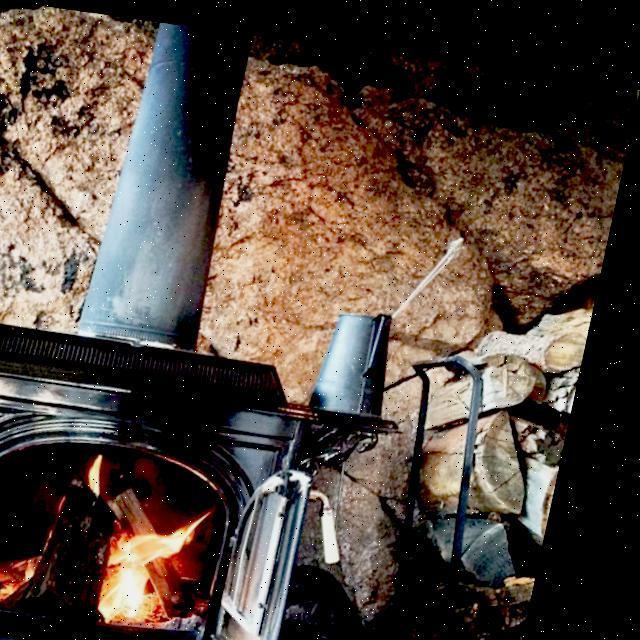Fire: (116, 452, 245, 626), (0, 530, 74, 618)
